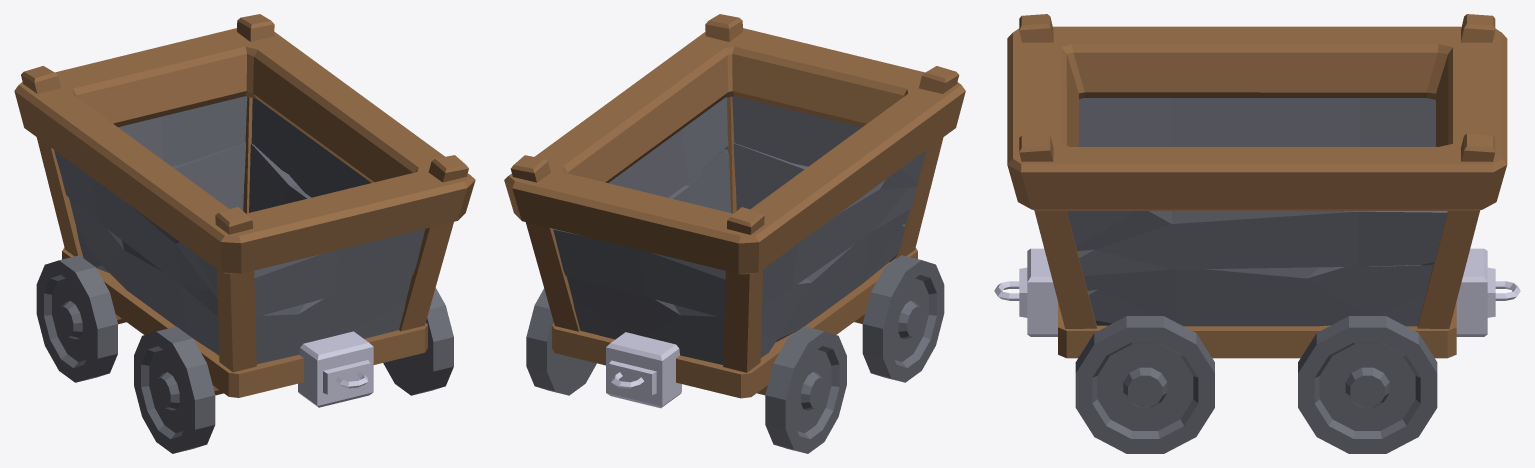
File: Minecart_00.FBX
The picture shows the model from 3 angles, left to right: view 1: azimuth 30°, elevation 25°; view 2: azimuth 150°, elevation 25°; view 3: azimuth 270°, elevation 25°; orthographic projection. The views are drawn at different scales.
Visible parts, largest first — view 1: Minecart_00; view 2: Minecart_00; view 3: Minecart_00.
Boxes of the visible parts, x1,y1,x2,y2 form: Minecart_00: (14,14,475,453); Minecart_00: (504,14,965,453); Minecart_00: (994,14,1520,453).
Bounding box in the file's own units: 6.55 × 6.34 × 9.99.
